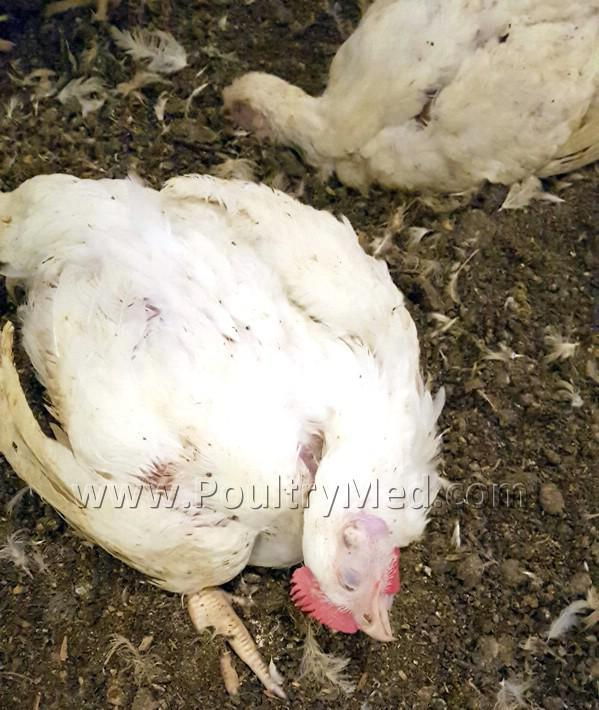AbNormal: (0, 175, 447, 692), (218, 0, 599, 211)
